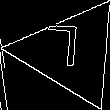L_S: (51, 27, 90, 79)
